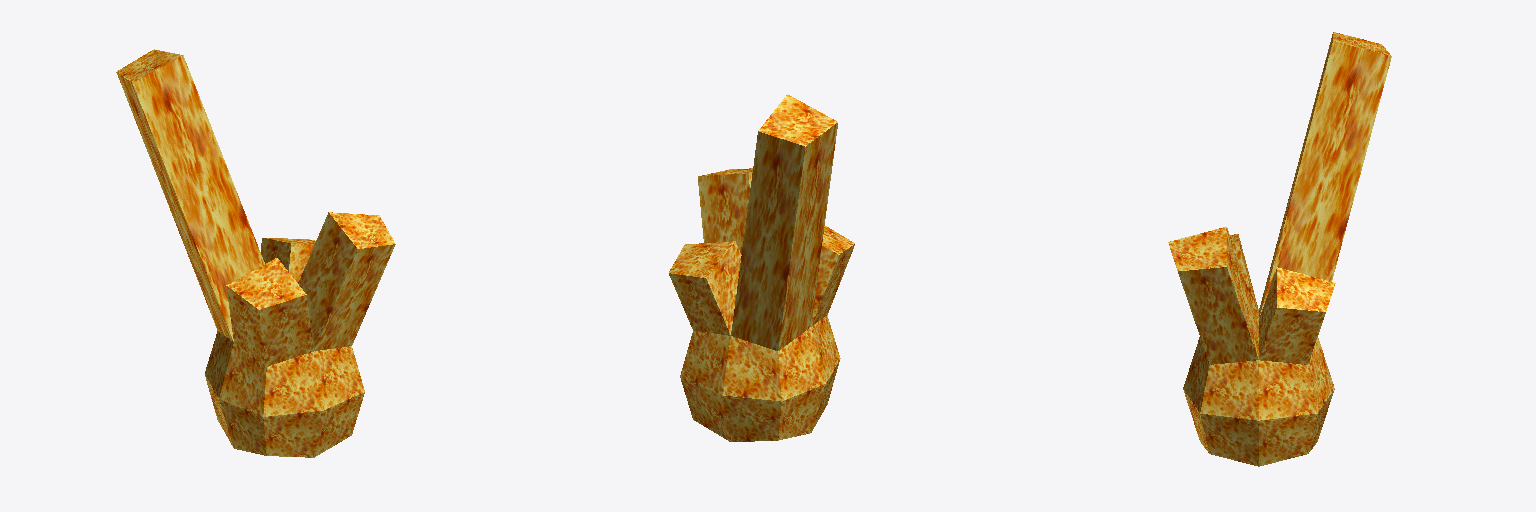
3 renders of one model, left to right at view 1: azimuth 30°, elevation 25°; view 2: azimuth 150°, elevation 25°; view 3: azimuth 270°, elevation 25°, orthographic.
Visible parts, largest first — view 1: Cube; view 2: Cube; view 3: Cube.
Boxes of the visible parts, x1,y1,x2,y2 form: Cube: [116, 49, 395, 457]; Cube: [669, 94, 854, 441]; Cube: [1168, 32, 1391, 466].
Size of the model in its own units: 4.55 by 8.64 by 4.55.
Materials: 1 (1 with a texture image).